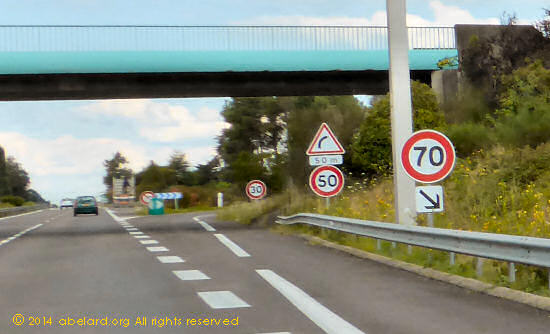Speed_limit_30km: (245, 179, 267, 201)
Speed_limit_50km: (308, 164, 345, 198)
Speed_limit_70km: (401, 129, 455, 186)
